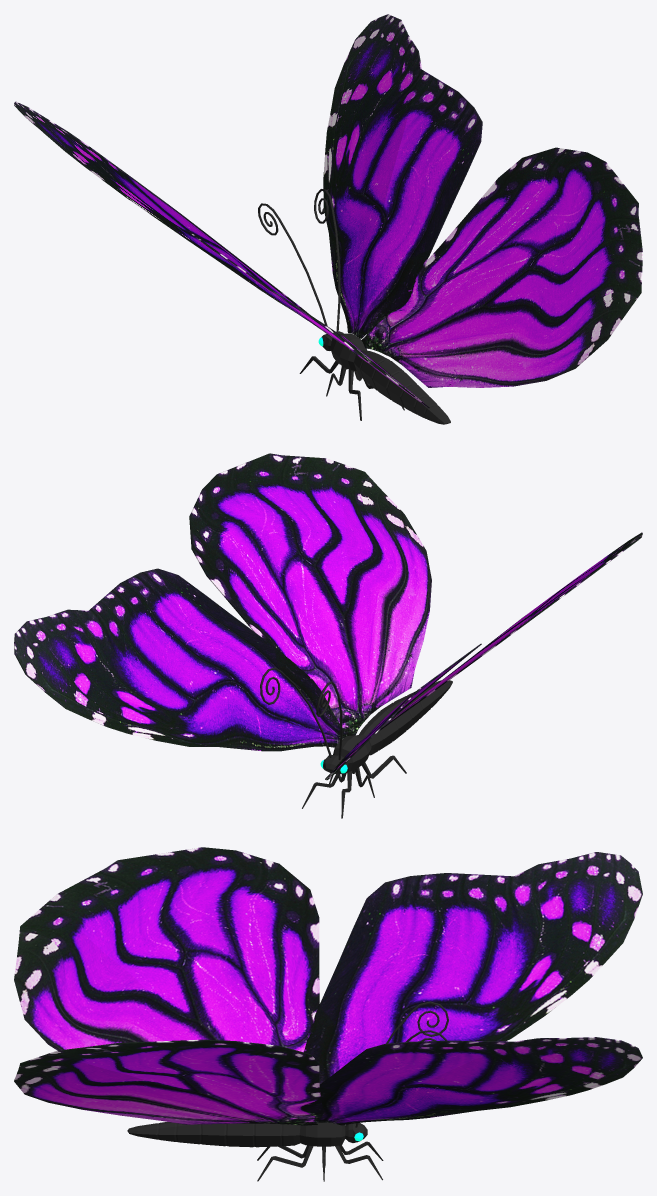
The model's file is Butterfly_Flutter_FINAL_Animated.glb.
3 renders of one model, top to bottom at view 1: azimuth 30°, elevation 25°; view 2: azimuth 150°, elevation 25°; view 3: azimuth 270°, elevation 25°, orthographic.
Parts seen in each view (by area): view 1: WingRight, WingLeft, Butterfly, Antenna; view 2: WingRight, Butterfly, WingLeft, Antenna; view 3: WingLeft, WingRight, Butterfly, Antenna.
Part boxes in pixels (x1,y1,x2,y2): WingRight: (323, 14, 642, 387); WingLeft: (14, 101, 429, 408); Butterfly: (299, 331, 450, 424); Antenna: (258, 189, 340, 332); WingRight: (14, 453, 431, 751); Butterfly: (302, 680, 452, 818); WingLeft: (325, 532, 642, 780); Antenna: (260, 667, 342, 759); WingLeft: (14, 847, 642, 1084); WingRight: (14, 1037, 642, 1125); Butterfly: (127, 1122, 383, 1181); Antenna: (355, 1001, 448, 1127).
Bounding box in the file's own units: 1.73 × 0.9793 × 2.43.
Materials: 3 (1 with a texture image).
